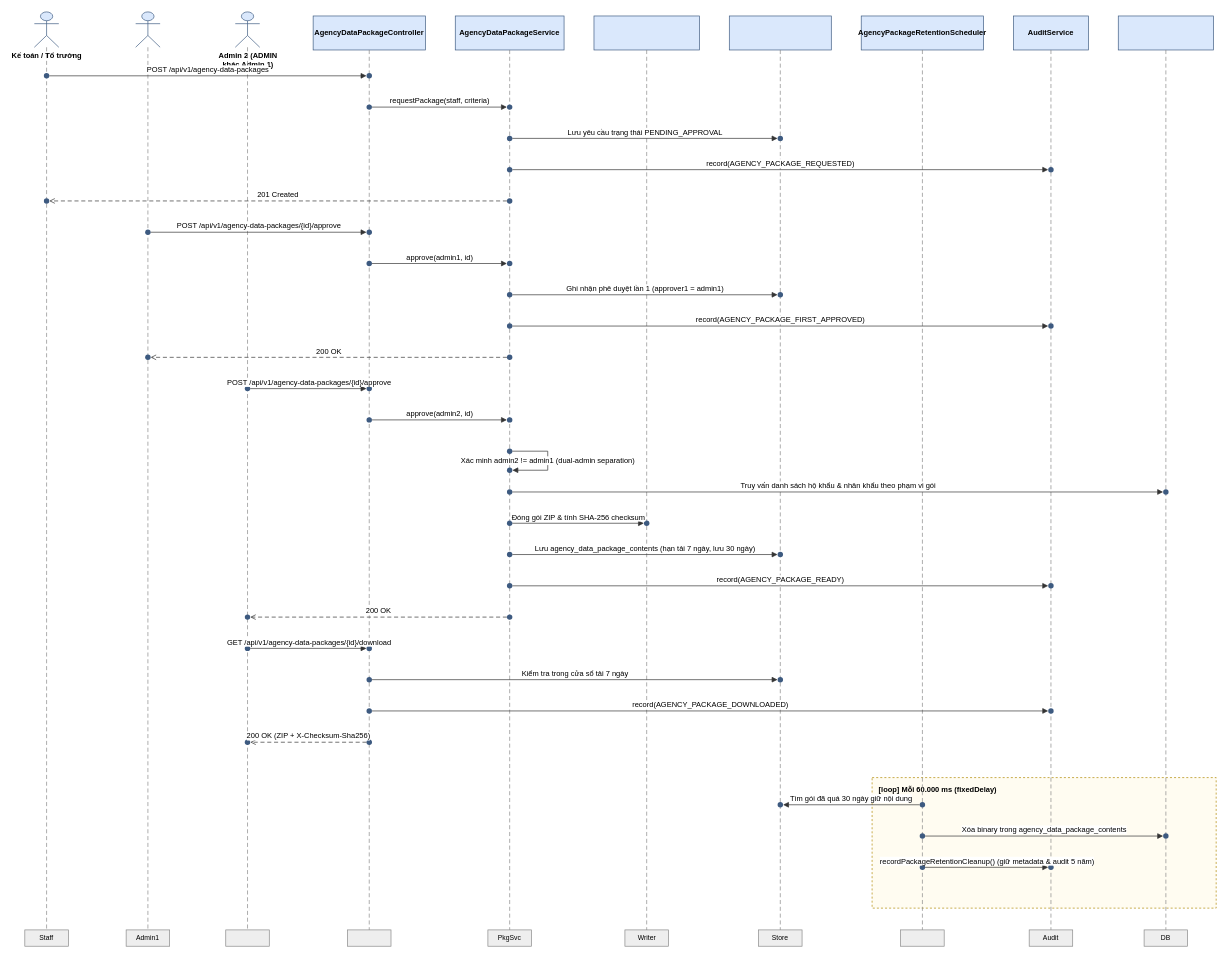
Image size: 1228x958. Some labels were removed from this diagram. The shapes that lost their labels are listed below. From the top down, each one's box as (x1, y1, x2, y2) in pixels, then its label:
(135, 11, 160, 47): Admin 1 (ADMIN)
(593, 15, 699, 50): AgencyDataPackageWriter
(729, 15, 831, 50): AgencyDataPackageStore
(1118, 15, 1213, 50): MySQL (agency_data_ packages*)
(225, 929, 269, 946): Admin2
(347, 929, 391, 946): PkgCtrl
(900, 929, 944, 946): Sched
